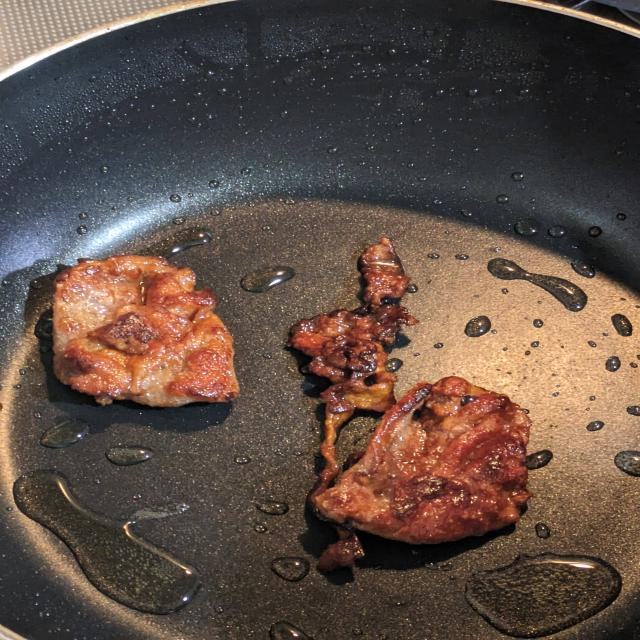overcooked pork: (286, 234, 547, 577), (42, 248, 255, 419)
